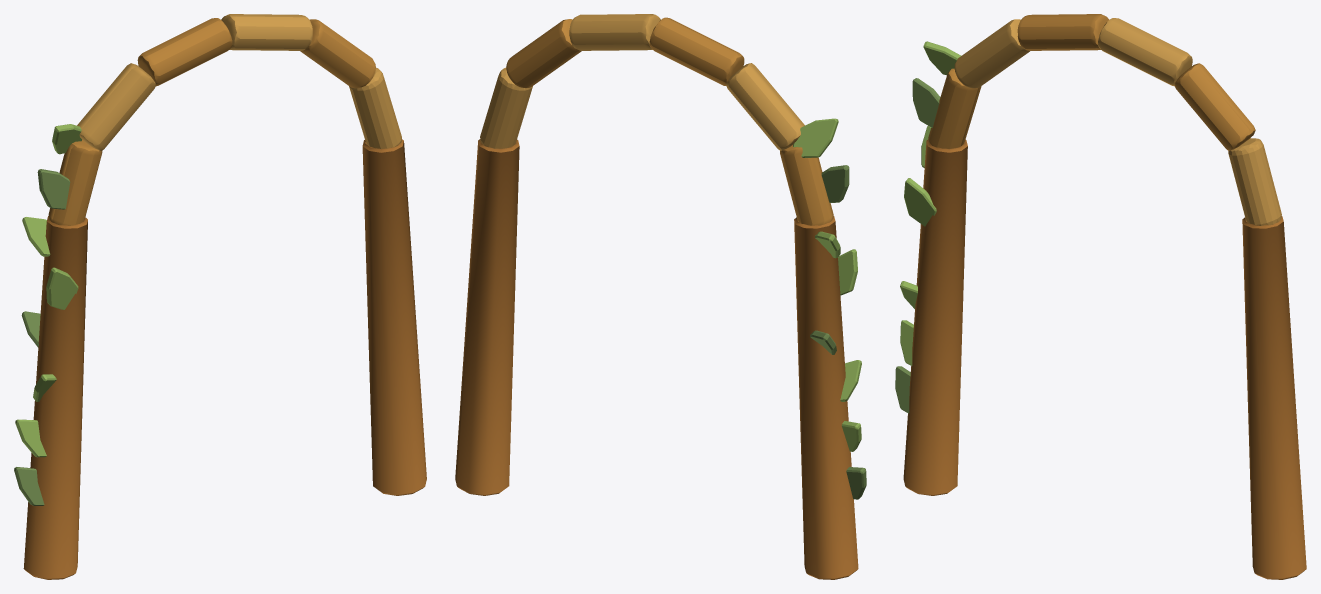
Rendered from prop_wooden_arch.glb.
3 views of the same model, side by side, from view 1: azimuth 30°, elevation 25°; view 2: azimuth 150°, elevation 25°; view 3: azimuth 330°, elevation 25° (orthographic).
Visible parts, largest first — view 1: wood_arch_post_r, wood_arch_post_l, wood_arch_arc_2, wood_arch_arc_1, wood_arch_arc_3, wood_arch_arc_4, wood_arch_arc_0, wood_arch_arc_5, arch_leaf_6, arch_leaf_4, arch_leaf_0, arch_leaf_1 (+2 smaller); view 2: wood_arch_post_r, wood_arch_post_l, wood_arch_arc_2, wood_arch_arc_1, wood_arch_arc_3, wood_arch_arc_0, wood_arch_arc_4, wood_arch_arc_5, arch_leaf_7, arch_leaf_6, arch_leaf_4, arch_leaf_2 (+1 smaller); view 3: wood_arch_post_r, wood_arch_post_l, wood_arch_arc_3, wood_arch_arc_4, wood_arch_arc_5, wood_arch_arc_2, wood_arch_arc_1, wood_arch_arc_0, arch_leaf_4, arch_leaf_6, arch_leaf_7, arch_leaf_0.
Part boxes in pixels (left/top/right/bottom): wood_arch_post_r: left=362, top=139, right=426, bottom=495; wood_arch_post_l: left=23, top=216, right=87, bottom=579; wood_arch_arc_2: left=137, top=18, right=232, bottom=86; wood_arch_arc_1: left=77, top=63, right=155, bottom=150; wood_arch_arc_3: left=221, top=14, right=312, bottom=50; wood_arch_arc_4: left=300, top=19, right=375, bottom=88; wood_arch_arc_0: left=48, top=140, right=102, bottom=225; wood_arch_arc_5: left=349, top=67, right=401, bottom=148; arch_leaf_6: left=37, top=169, right=70, bottom=209; arch_leaf_4: left=46, top=267, right=78, bottom=309; arch_leaf_0: left=14, top=467, right=44, bottom=505; arch_leaf_1: left=15, top=419, right=46, bottom=457; wood_arch_post_r: left=455, top=139, right=519, bottom=495; wood_arch_post_l: left=794, top=216, right=858, bottom=579; wood_arch_arc_2: left=649, top=17, right=744, bottom=85; wood_arch_arc_1: left=726, top=63, right=804, bottom=150; wood_arch_arc_3: left=569, top=14, right=660, bottom=50; wood_arch_arc_0: left=780, top=145, right=833, bottom=225; wood_arch_arc_4: left=506, top=19, right=581, bottom=88; wood_arch_arc_5: left=480, top=67, right=532, bottom=148; arch_leaf_7: left=793, top=118, right=838, bottom=157; arch_leaf_6: left=821, top=165, right=849, bottom=202; arch_leaf_4: left=838, top=249, right=857, bottom=295; arch_leaf_2: left=840, top=360, right=861, bottom=401; wood_arch_post_r: left=1242, top=216, right=1306, bottom=579; wood_arch_post_l: left=903, top=139, right=967, bottom=495; wood_arch_arc_3: left=1098, top=18, right=1192, bottom=86; wood_arch_arc_4: left=1174, top=63, right=1255, bottom=150; wood_arch_arc_5: left=1228, top=138, right=1281, bottom=225; wood_arch_arc_2: left=1017, top=14, right=1108, bottom=50; wood_arch_arc_1: left=954, top=19, right=1029, bottom=88; wood_arch_arc_0: left=928, top=68, right=981, bottom=148; arch_leaf_4: left=904, top=178, right=936, bottom=226; arch_leaf_6: left=912, top=78, right=940, bottom=127; arch_leaf_7: left=923, top=41, right=961, bottom=75; arch_leaf_0: left=895, top=366, right=910, bottom=413.
Size of the model in its own units: 1.44 by 1.73 by 0.1997.
